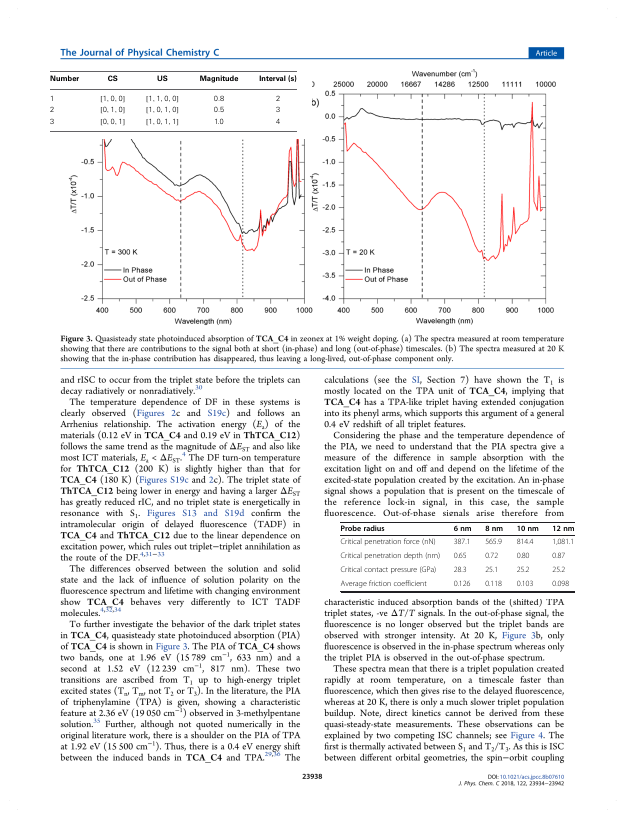borderless: (339, 521, 574, 591), (49, 69, 297, 131)
cell: (340, 552, 441, 561), (340, 566, 437, 575), (340, 538, 436, 547), (340, 580, 428, 589), (198, 75, 239, 84), (340, 525, 386, 533), (258, 75, 297, 84), (144, 94, 179, 103), (144, 117, 179, 126), (48, 75, 80, 84), (144, 106, 179, 114), (99, 94, 126, 103), (99, 117, 126, 126), (551, 538, 575, 547), (99, 106, 126, 114), (516, 525, 540, 533), (551, 525, 575, 533), (484, 538, 503, 547), (484, 580, 503, 589), (551, 580, 570, 589), (453, 538, 471, 547), (516, 538, 534, 547), (453, 580, 471, 589), (516, 580, 534, 589), (484, 525, 504, 533), (453, 525, 472, 533), (484, 552, 499, 561), (551, 552, 566, 561), (484, 566, 499, 575), (551, 566, 566, 575), (453, 552, 467, 561), (516, 552, 530, 561), (453, 566, 467, 575), (516, 566, 530, 575), (155, 75, 168, 84), (106, 75, 118, 84), (212, 94, 225, 102), (212, 106, 225, 113), (213, 117, 224, 125), (48, 94, 55, 102), (274, 94, 280, 102), (49, 117, 55, 125), (274, 117, 280, 125), (49, 106, 55, 113), (274, 106, 280, 113)
